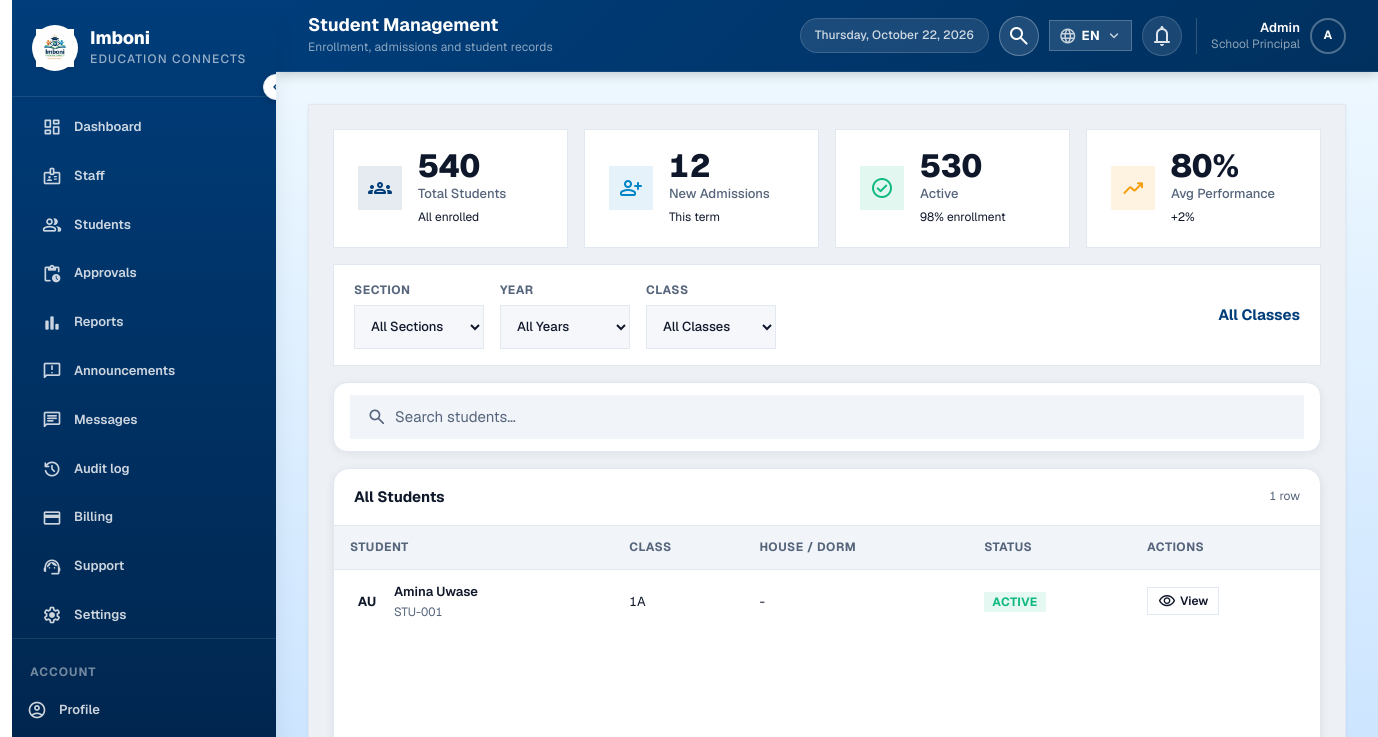
Test: AdminStudents › with the real students API response shape › asks the server to search, by name or by code, once typing pauses
Check: the text "Amina Uwase" is shown, box [394,582,478,603]
Type "stu-001" into the search field with placeholder "Search students…".
click(841, 417); type("stu-001")  # box [395,396,1287,438]
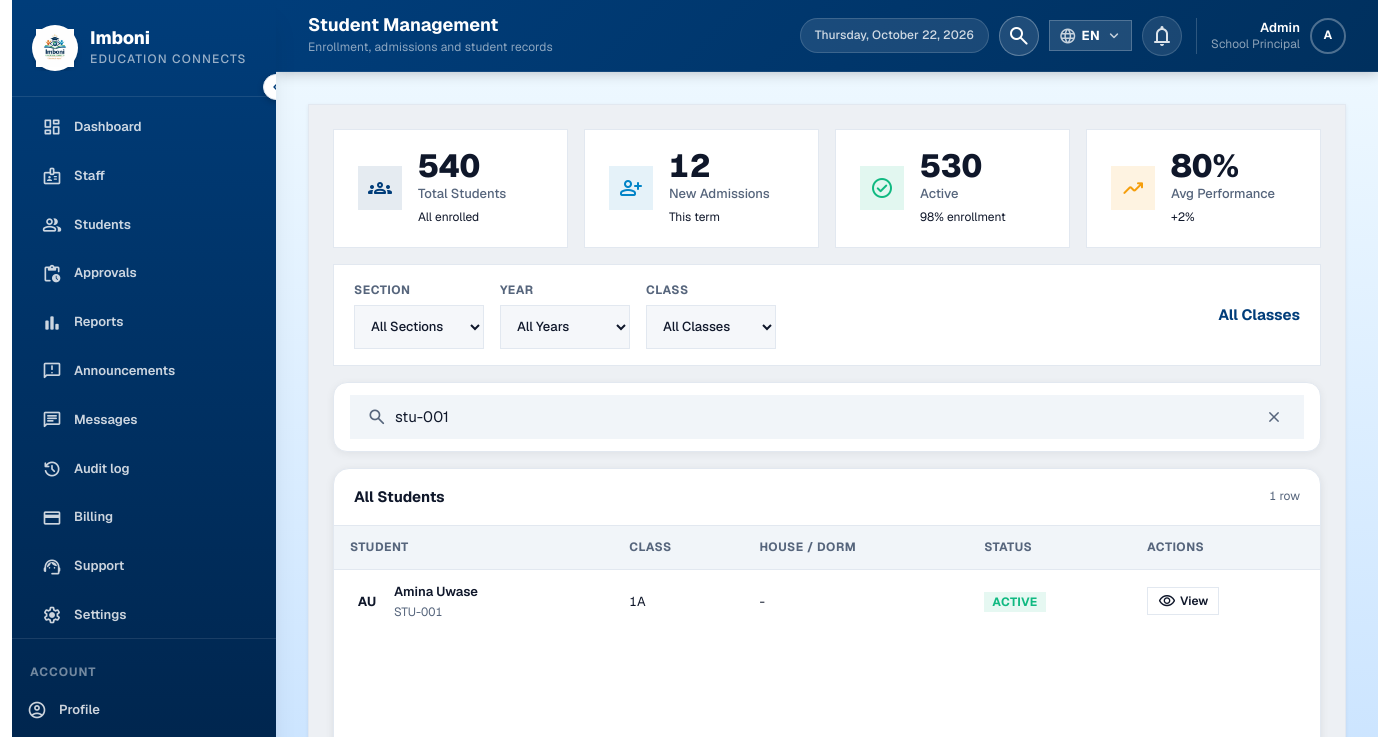
Check: the text "Amina Uwase" is shown, box [394,582,478,603]
Replace the text in the search field with placeholder "Search students…" with "nobody" at coordinates (824, 417), box [395,396,1253,438]
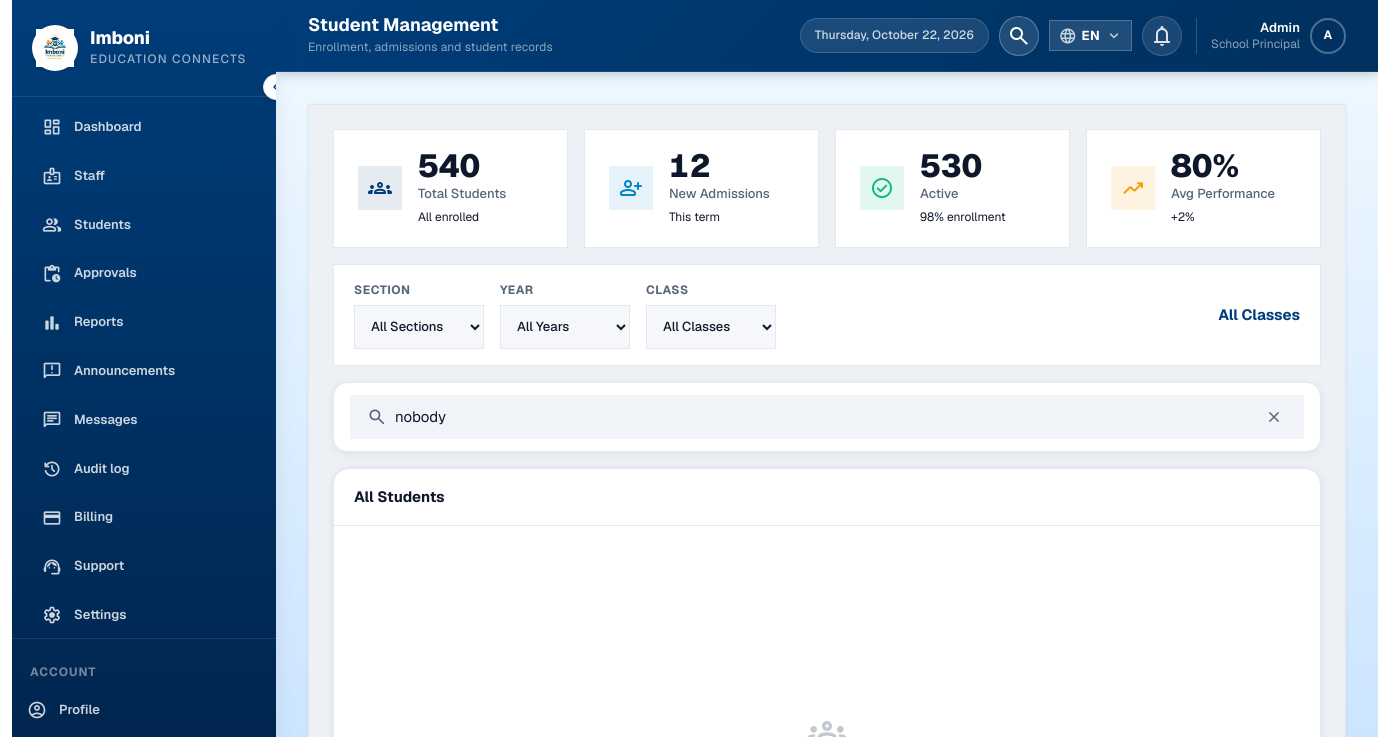
Check: the text "Amina Uwase" is gone
